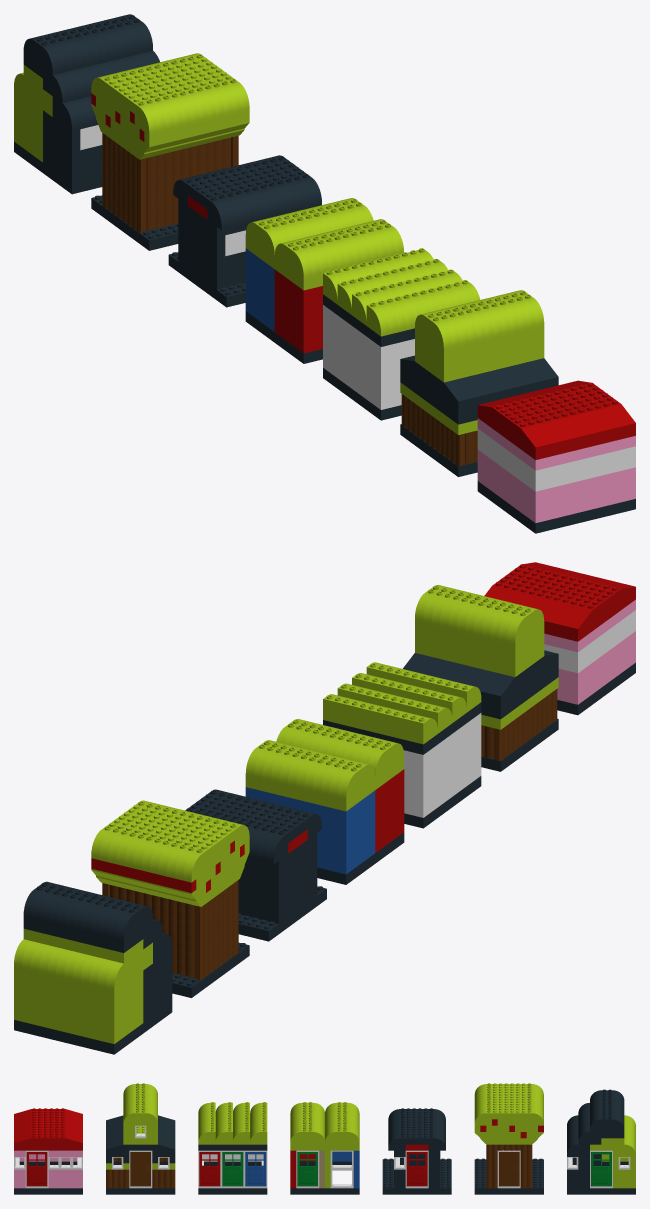
File: 02extruded-lod0.fbx
3 views of the same model, one above another, from view 1: azimuth 30°, elevation 25°; view 2: azimuth 150°, elevation 25°; view 3: azimuth 270°, elevation 25° (orthographic). The views are drawn at different scales.
Visible parts, largest first — view 1: Material_119, Material_26, Material_21, Material_192, Material_1, Material_222, Material_23; view 2: Material_119, Material_26, Material_21, Material_192, Material_1, Material_23, Material_222; view 3: Material_26, Material_119, Material_21, Material_1, Material_192, Material_28, Material_222, Material_23, Material_5.
Part boxes in pixels (bbox=[...]): Material_119: bbox=[14, 53, 544, 434]; Material_26: bbox=[14, 14, 635, 533]; Material_21: bbox=[91, 93, 635, 459]; Material_192: bbox=[102, 133, 477, 466]; Material_1: bbox=[80, 125, 635, 491]; Material_222: bbox=[477, 418, 635, 523]; Material_23: bbox=[245, 248, 274, 331]; Material_119: bbox=[14, 585, 558, 1044]; Material_26: bbox=[14, 650, 635, 1054]; Material_21: bbox=[91, 562, 635, 892]; Material_192: bbox=[102, 689, 557, 980]; Material_1: bbox=[403, 610, 635, 817]; Material_23: bbox=[245, 787, 375, 874]; Material_222: bbox=[544, 599, 635, 704]; Material_26: bbox=[14, 1089, 635, 1194]; Material_119: bbox=[106, 1083, 635, 1188]; Material_21: bbox=[14, 1108, 543, 1188]; Material_1: bbox=[14, 1125, 630, 1188]; Material_192: bbox=[106, 1144, 532, 1188]; Material_28: bbox=[222, 1152, 611, 1186]; Material_222: bbox=[14, 1150, 82, 1188]; Material_23: bbox=[245, 1150, 359, 1188]; Material_5: bbox=[319, 1150, 324, 1188].
Size of the model in its own units: 9.83 by 12.66 by 86.4.
